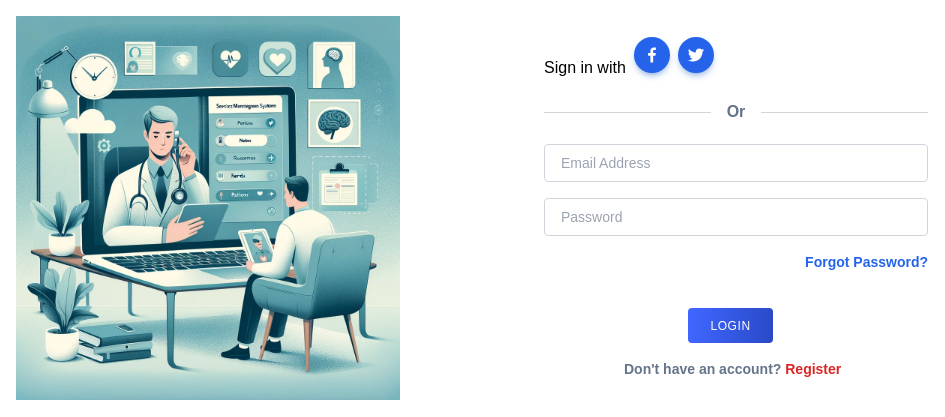
Test case: Login Component Tests › shows password error message on empty password input
Type "test@example.com" into the field with placeholder "Email Address".
click(736, 163); type("test@example.com")  # box [544,144,928,182]
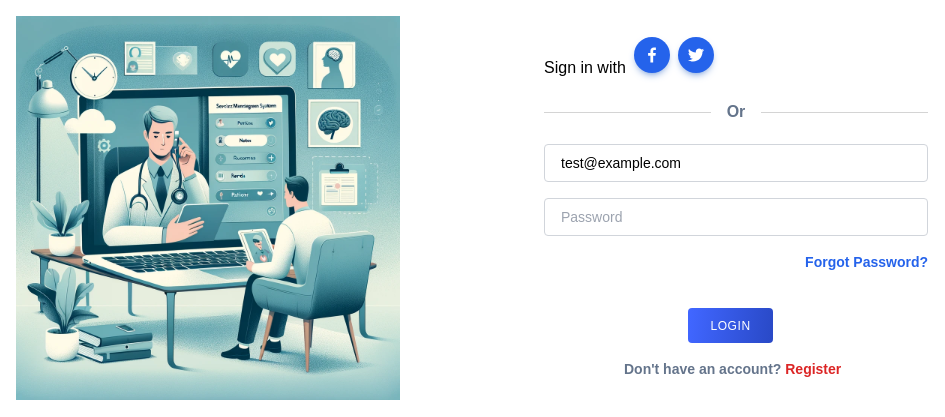
Click the button "Login".
click(731, 326)  # box [688,308,773,343]
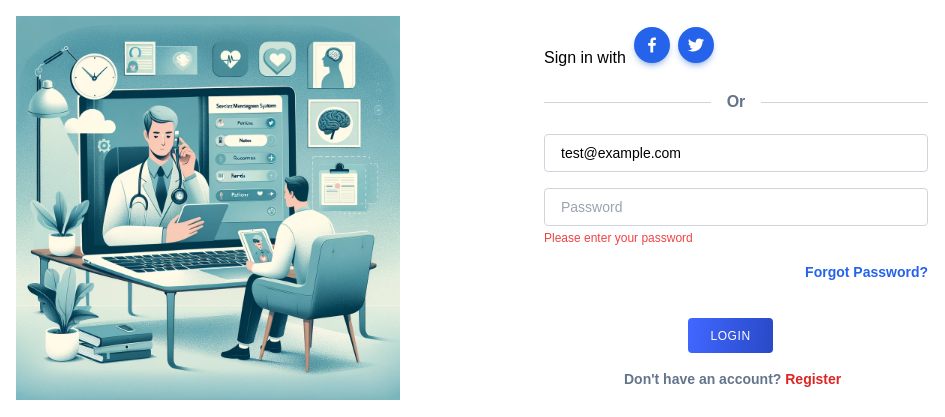
Check: the text "Please enter your password" is shown, box [544,231,693,245]
